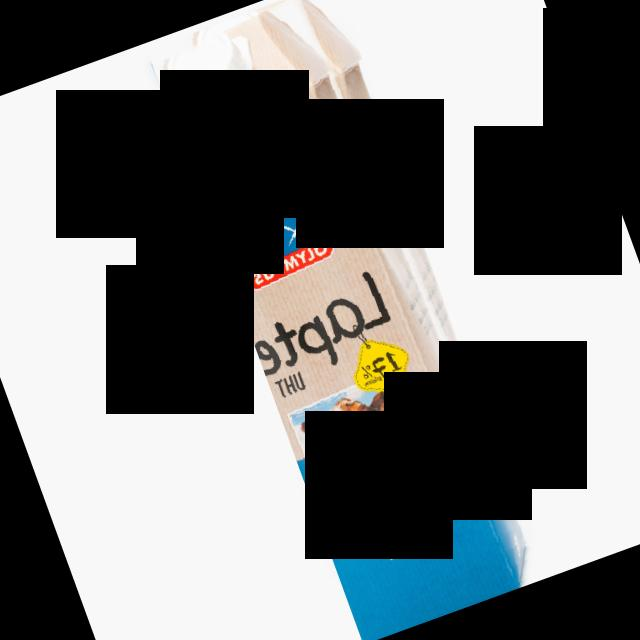milk: (147, 0, 550, 640)
